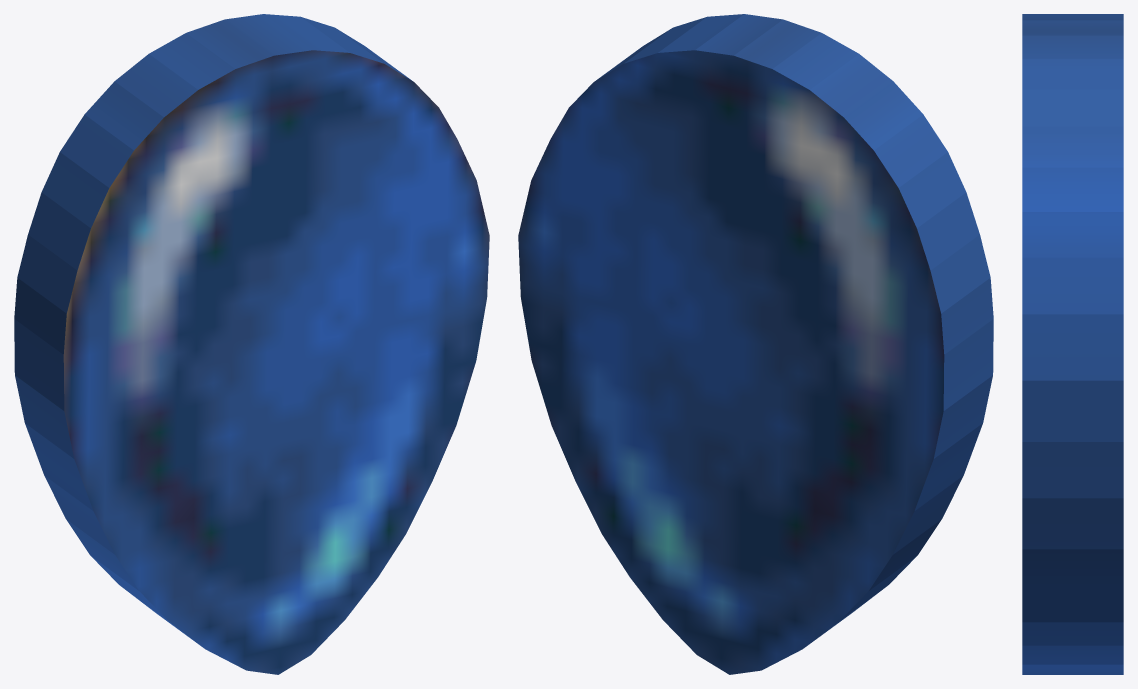
File: Rarity_Rare.glb
3 views of the same model, side by side, from view 1: azimuth 30°, elevation 25°; view 2: azimuth 150°, elevation 25°; view 3: azimuth 270°, elevation 25° (orthographic). The views are drawn at different scales.
Visible parts, largest first — view 1: Circle; view 2: Circle; view 3: Circle.
Part boxes in pixels (left/top/right/bottom): Circle: left=14, top=14, right=489, bottom=674; Circle: left=518, top=14, right=993, bottom=674; Circle: left=1022, top=14, right=1123, bottom=674.
Bounding box in the file's own units: 0.4969 × 0.6914 × 0.1.
Materials: 1 (1 with a texture image).
